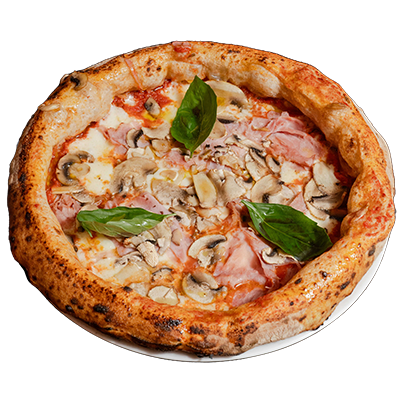Ham: (120, 193, 191, 261), (215, 229, 281, 284), (202, 115, 252, 167), (264, 133, 325, 164), (250, 112, 311, 135), (47, 193, 84, 226), (104, 120, 138, 144), (162, 146, 199, 167), (231, 287, 269, 307)
Pizza: (8, 41, 398, 357)
